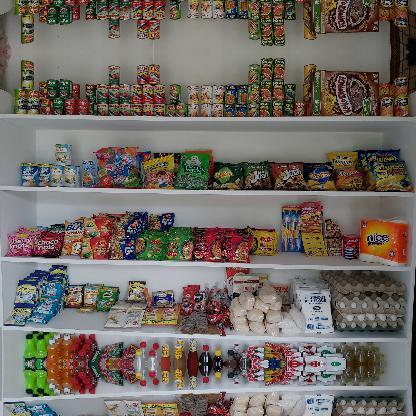Koko-Krunch: (308, 70, 378, 116), (307, 0, 379, 34)
